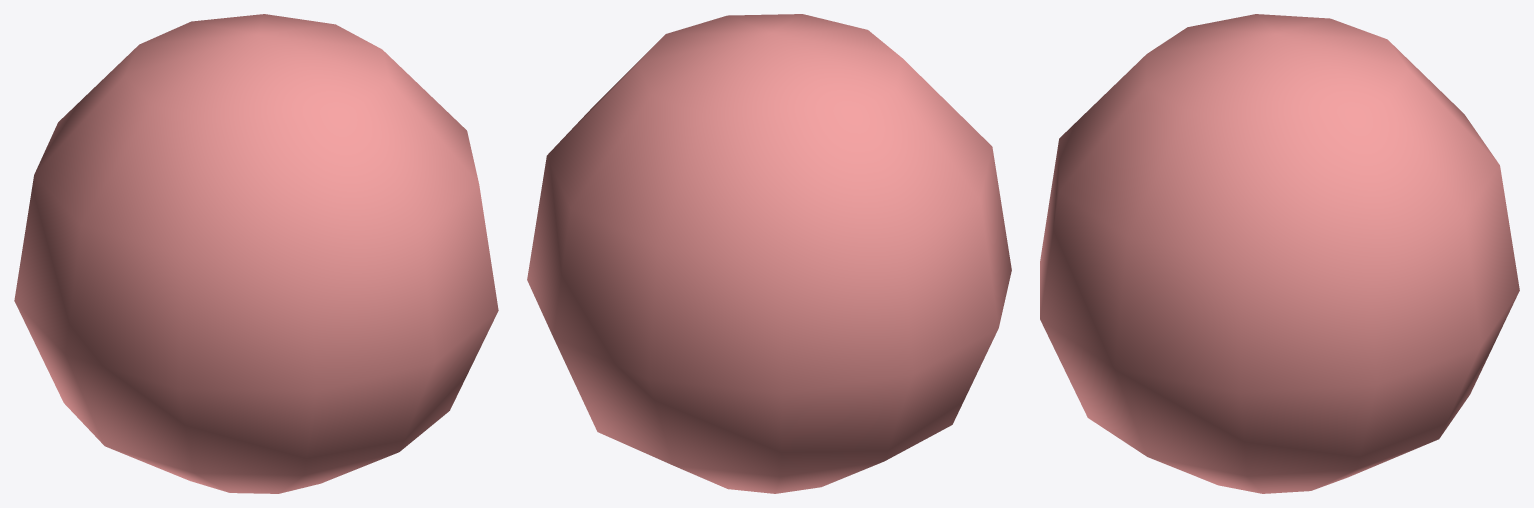
Rendered from naranja.glb.
3 renders of one model, left to right at view 1: azimuth 30°, elevation 25°; view 2: azimuth 150°, elevation 25°; view 3: azimuth 270°, elevation 25°, orthographic.
Visible parts, largest first — view 1: Sphere001; view 2: Sphere001; view 3: Sphere001.
Part boxes in pixels (bbox=[...]): Sphere001: bbox=[14, 14, 498, 493]; Sphere001: bbox=[527, 14, 1011, 493]; Sphere001: bbox=[1040, 14, 1519, 493].
Size of the model in its own units: 0.234 by 0.2315 by 0.2316.
